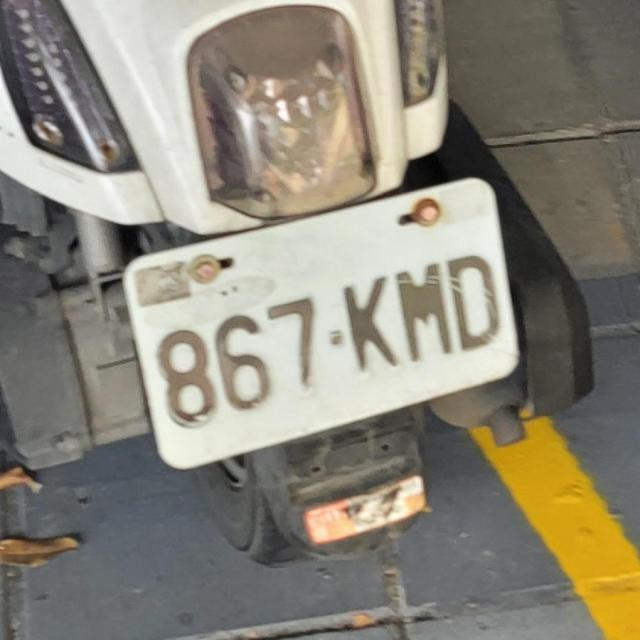W: (105, 162, 543, 496)
